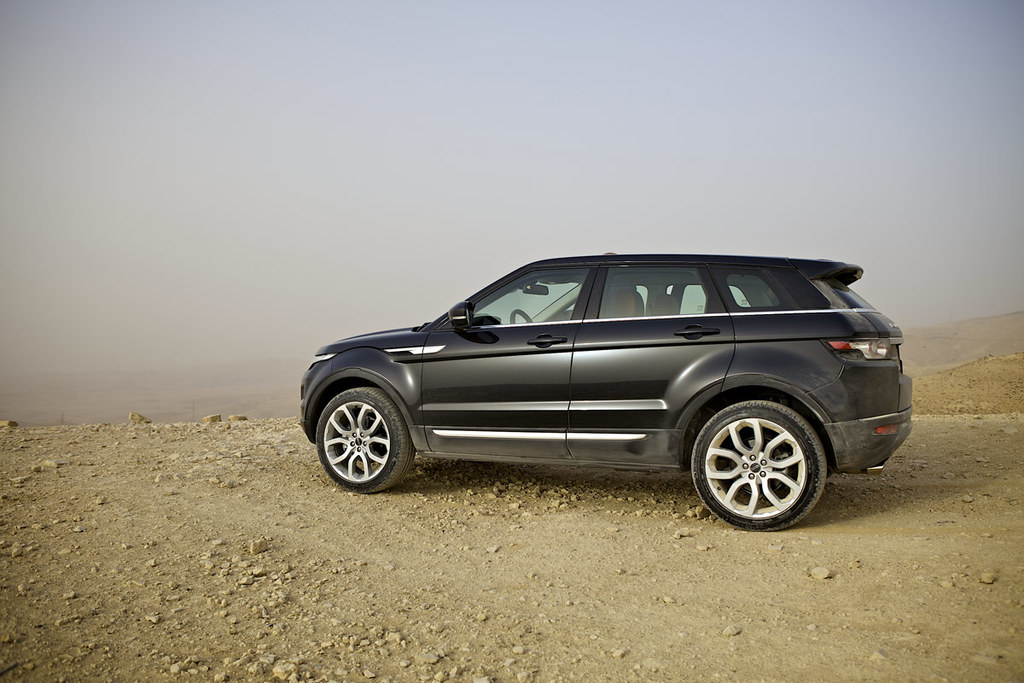Car: (298, 255, 922, 531)
